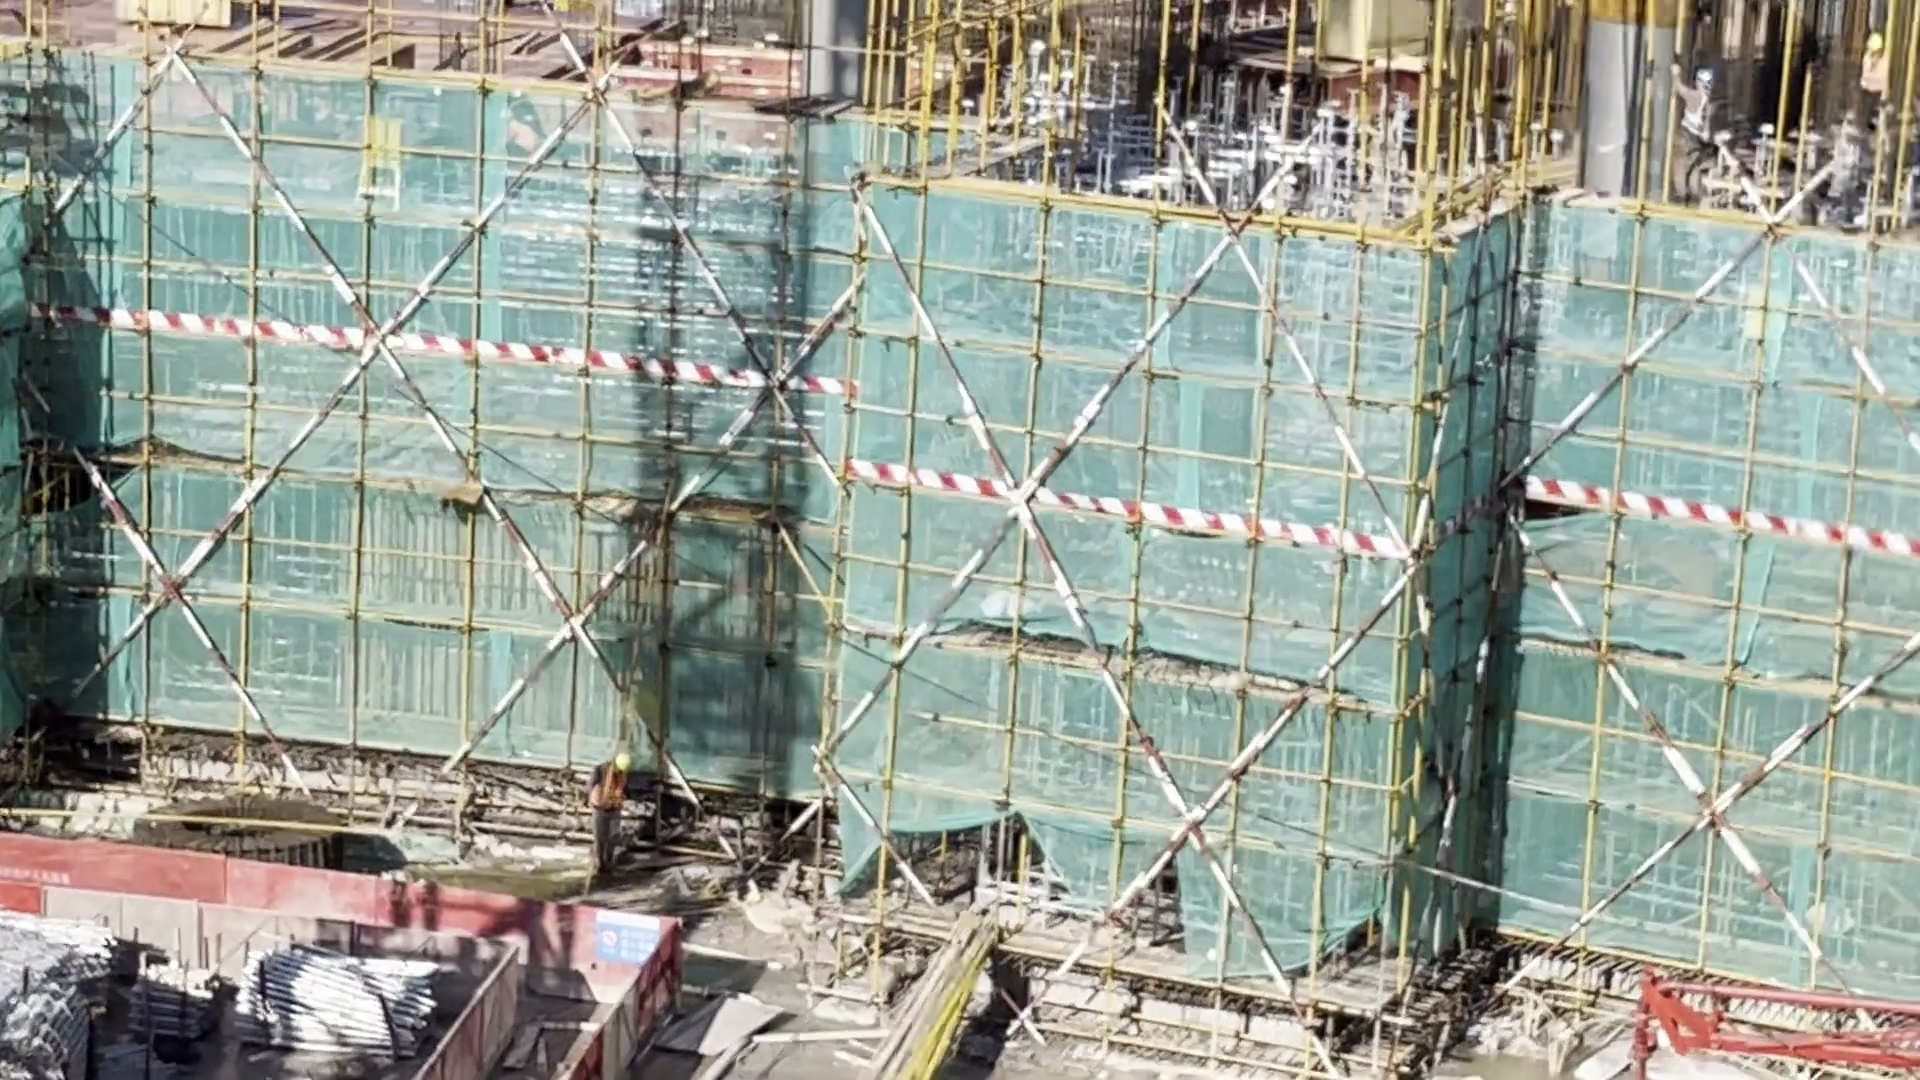fence: (5, 824, 586, 1004), (413, 962, 659, 1080)
helmet: (615, 753, 630, 771)
person: (582, 756, 635, 884), (1673, 62, 1713, 176), (1862, 34, 1885, 124)
scaffold: (238, 957, 428, 1051), (120, 968, 209, 1035)
slogan: (594, 911, 661, 976)
vest: (588, 770, 632, 811), (1681, 80, 1708, 138), (1867, 54, 1890, 89)
